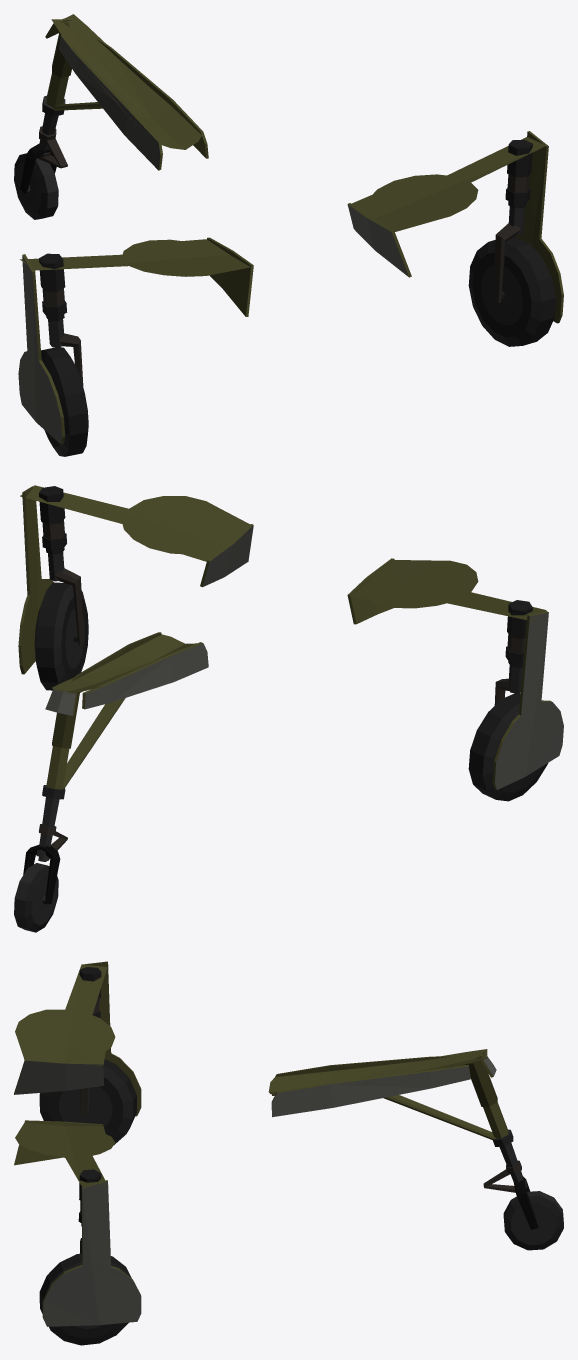
The model's file is Gear_P39NP.obj.
The picture shows the model from 3 angles, top to bottom: view 1: azimuth 30°, elevation 25°; view 2: azimuth 150°, elevation 25°; view 3: azimuth 270°, elevation 25°; orthographic projection. The views are drawn at different scales.
Visible parts, largest first — view 1: ShapeIndexedFaceSet.070_ShapeIndexedFaceSet.071, ShapeIndexedFaceSet.053_ShapeIndexedFaceSet.054, ShapeIndexedFaceSet.067_ShapeIndexedFaceSet.068, ShapeIndexedFaceSet.059_ShapeIndexedFaceSet.060, ShapeIndexedFaceSet.054_ShapeIndexedFaceSet.055, ShapeIndexedFaceSet.066_ShapeIndexedFaceSet.067, ShapeIndexedFaceSet.049_ShapeIndexedFaceSet.050, ShapeIndexedFaceSet.065_ShapeIndexedFaceSet.066, ShapeIndexedFaceSet.063_ShapeIndexedFaceSet.064, ShapeIndexedFaceSet.041_ShapeIndexedFaceSet.042, ShapeIndexedFaceSet.061_ShapeIndexedFaceSet.062, ShapeIndexedFaceSet.068_ShapeIndexedFaceSet.069 (+9 smaller); view 2: ShapeIndexedFaceSet.070_ShapeIndexedFaceSet.071, ShapeIndexedFaceSet.054_ShapeIndexedFaceSet.055, ShapeIndexedFaceSet.067_ShapeIndexedFaceSet.068, ShapeIndexedFaceSet.059_ShapeIndexedFaceSet.060, ShapeIndexedFaceSet.066_ShapeIndexedFaceSet.067, ShapeIndexedFaceSet.049_ShapeIndexedFaceSet.050, ShapeIndexedFaceSet.053_ShapeIndexedFaceSet.054, ShapeIndexedFaceSet.041_ShapeIndexedFaceSet.042, ShapeIndexedFaceSet.057_ShapeIndexedFaceSet.058, ShapeIndexedFaceSet.068_ShapeIndexedFaceSet.069, ShapeIndexedFaceSet.048_ShapeIndexedFaceSet.049, ShapeIndexedFaceSet.064_ShapeIndexedFaceSet.065 (+11 smaller); view 3: ShapeIndexedFaceSet.070_ShapeIndexedFaceSet.071, ShapeIndexedFaceSet.062_ShapeIndexedFaceSet.063, ShapeIndexedFaceSet.051_ShapeIndexedFaceSet.052, ShapeIndexedFaceSet.053_ShapeIndexedFaceSet.054, ShapeIndexedFaceSet.060_ShapeIndexedFaceSet.061, ShapeIndexedFaceSet.041_ShapeIndexedFaceSet.042, ShapeIndexedFaceSet.059_ShapeIndexedFaceSet.060, ShapeIndexedFaceSet.067_ShapeIndexedFaceSet.068, ShapeIndexedFaceSet.055_ShapeIndexedFaceSet.056, ShapeIndexedFaceSet.046_ShapeIndexedFaceSet.047, ShapeIndexedFaceSet.057_ShapeIndexedFaceSet.058, ShapeIndexedFaceSet.058_ShapeIndexedFaceSet.059 (+8 smaller).
Boxes of the visible parts, box(x1,y1,x2,y2) form: ShapeIndexedFaceSet.070_ShapeIndexedFaceSet.071: box(20, 137, 546, 276); ShapeIndexedFaceSet.053_ShapeIndexedFaceSet.054: box(51, 14, 201, 149); ShapeIndexedFaceSet.067_ShapeIndexedFaceSet.068: box(472, 139, 556, 345); ShapeIndexedFaceSet.059_ShapeIndexedFaceSet.060: box(39, 253, 87, 456); ShapeIndexedFaceSet.054_ShapeIndexedFaceSet.055: box(18, 255, 62, 444); ShapeIndexedFaceSet.066_ShapeIndexedFaceSet.067: box(514, 131, 563, 323); ShapeIndexedFaceSet.049_ShapeIndexedFaceSet.050: box(59, 36, 160, 170); ShapeIndexedFaceSet.065_ShapeIndexedFaceSet.066: box(468, 241, 542, 346); ShapeIndexedFaceSet.063_ShapeIndexedFaceSet.064: box(481, 206, 524, 325); ShapeIndexedFaceSet.041_ShapeIndexedFaceSet.042: box(15, 113, 58, 218); ShapeIndexedFaceSet.061_ShapeIndexedFaceSet.062: box(207, 237, 253, 316); ShapeIndexedFaceSet.068_ShapeIndexedFaceSet.069: box(347, 204, 408, 276); ShapeIndexedFaceSet.070_ShapeIndexedFaceSet.071: box(20, 485, 546, 621); ShapeIndexedFaceSet.054_ShapeIndexedFaceSet.055: box(495, 612, 563, 789); ShapeIndexedFaceSet.067_ShapeIndexedFaceSet.068: box(35, 486, 88, 690); ShapeIndexedFaceSet.059_ShapeIndexedFaceSet.060: box(468, 600, 543, 799); ShapeIndexedFaceSet.066_ShapeIndexedFaceSet.067: box(18, 486, 53, 674); ShapeIndexedFaceSet.049_ShapeIndexedFaceSet.050: box(85, 643, 208, 709); ShapeIndexedFaceSet.053_ShapeIndexedFaceSet.054: box(52, 634, 196, 693); ShapeIndexedFaceSet.041_ShapeIndexedFaceSet.042: box(14, 797, 59, 932); ShapeIndexedFaceSet.057_ShapeIndexedFaceSet.058: box(482, 704, 548, 801); ShapeIndexedFaceSet.068_ShapeIndexedFaceSet.069: box(202, 525, 253, 586); ShapeIndexedFaceSet.048_ShapeIndexedFaceSet.049: box(63, 698, 125, 788); ShapeIndexedFaceSet.064_ShapeIndexedFaceSet.065: box(42, 520, 84, 644); ShapeIndexedFaceSet.070_ShapeIndexedFaceSet.071: box(15, 964, 115, 1186); ShapeIndexedFaceSet.062_ShapeIndexedFaceSet.063: box(43, 1181, 141, 1326); ShapeIndexedFaceSet.051_ShapeIndexedFaceSet.052: box(271, 1066, 470, 1117); ShapeIndexedFaceSet.053_ShapeIndexedFaceSet.054: box(268, 1049, 487, 1094); ShapeIndexedFaceSet.060_ShapeIndexedFaceSet.061: box(14, 1060, 104, 1094); ShapeIndexedFaceSet.041_ShapeIndexedFaceSet.042: box(499, 1143, 563, 1245); ShapeIndexedFaceSet.059_ShapeIndexedFaceSet.060: box(48, 967, 136, 1136); ShapeIndexedFaceSet.067_ShapeIndexedFaceSet.068: box(39, 1169, 131, 1338); ShapeIndexedFaceSet.055_ShapeIndexedFaceSet.056: box(59, 1086, 112, 1127); ShapeIndexedFaceSet.046_ShapeIndexedFaceSet.047: box(492, 1130, 563, 1250); ShapeIndexedFaceSet.057_ShapeIndexedFaceSet.058: box(39, 1066, 133, 1144); ShapeIndexedFaceSet.058_ShapeIndexedFaceSet.059: box(85, 961, 141, 1116).
Size of the model in its own units: 38.06 by 15.39 by 39.48.
